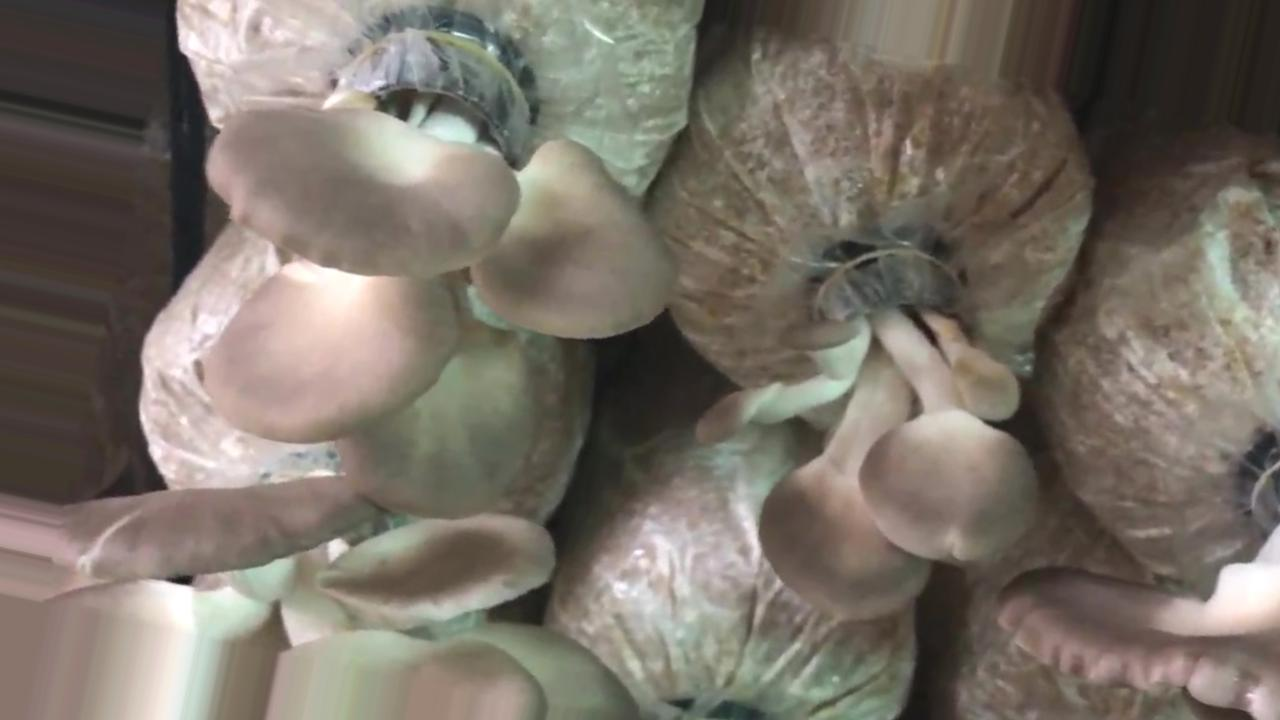nam: (199, 9, 674, 520), (1, 473, 638, 719), (691, 228, 1039, 618), (1013, 570, 1280, 714)
